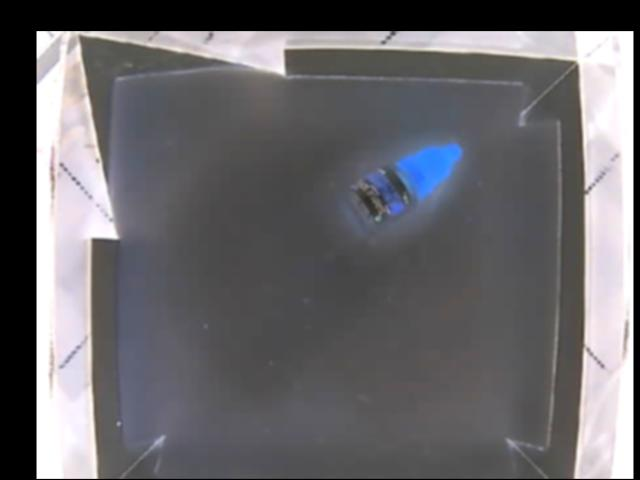Bottle: (339, 141, 467, 236)
